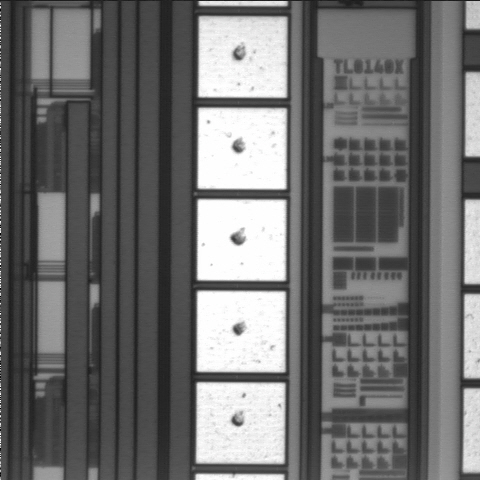pad: (198, 16, 287, 98), (197, 199, 286, 281), (196, 382, 285, 464), (198, 108, 287, 189), (197, 291, 286, 372)
